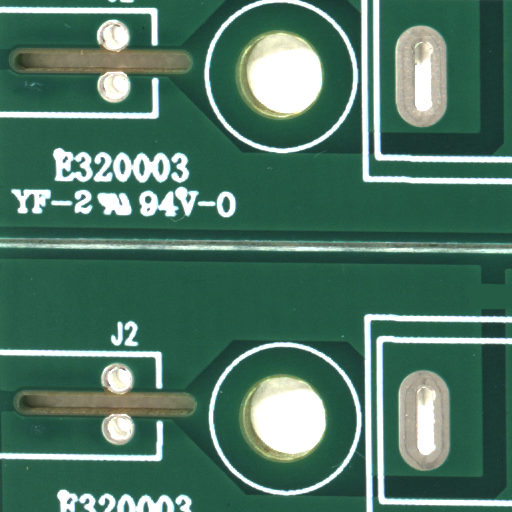Short: (489, 295, 512, 334)
